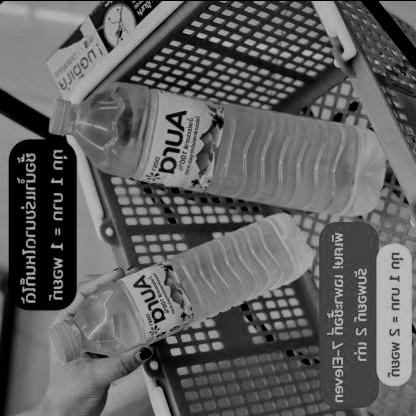bottle: (45, 79, 388, 218), (41, 210, 325, 367)
